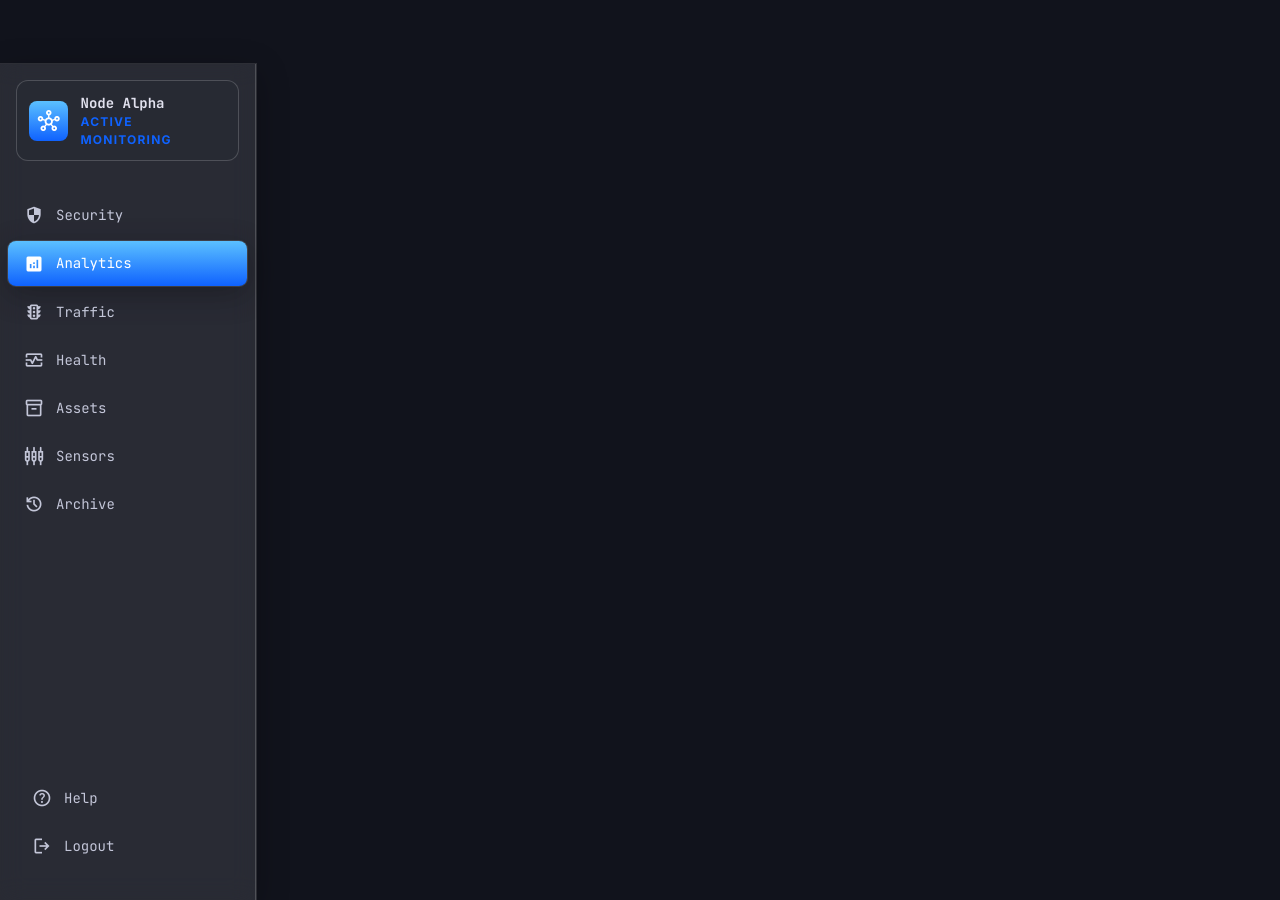
SideNav › opens Health and Assets panels
What coordinates should you click on to do the following:
click the button "Health"
I would click on:
 (128, 360)
Its box is [8,338,247,382].
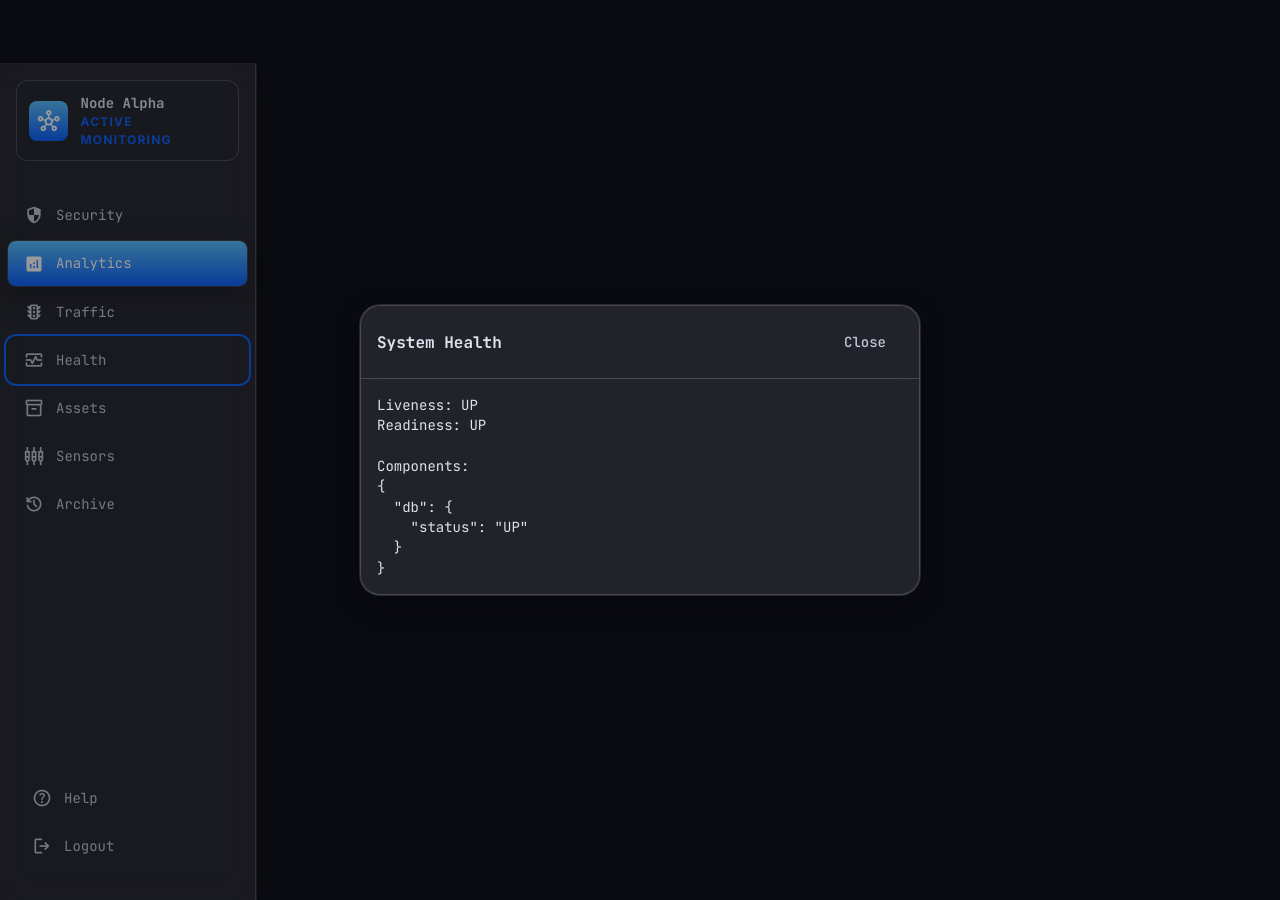
Expected: the dialog "System Health" is shown, [360,305,920,595]
What coordinates should you click on to do the following:
click the button with aria-label "Close dialog"
I would click on:
 (865, 342)
Its box is [827,322,903,362].
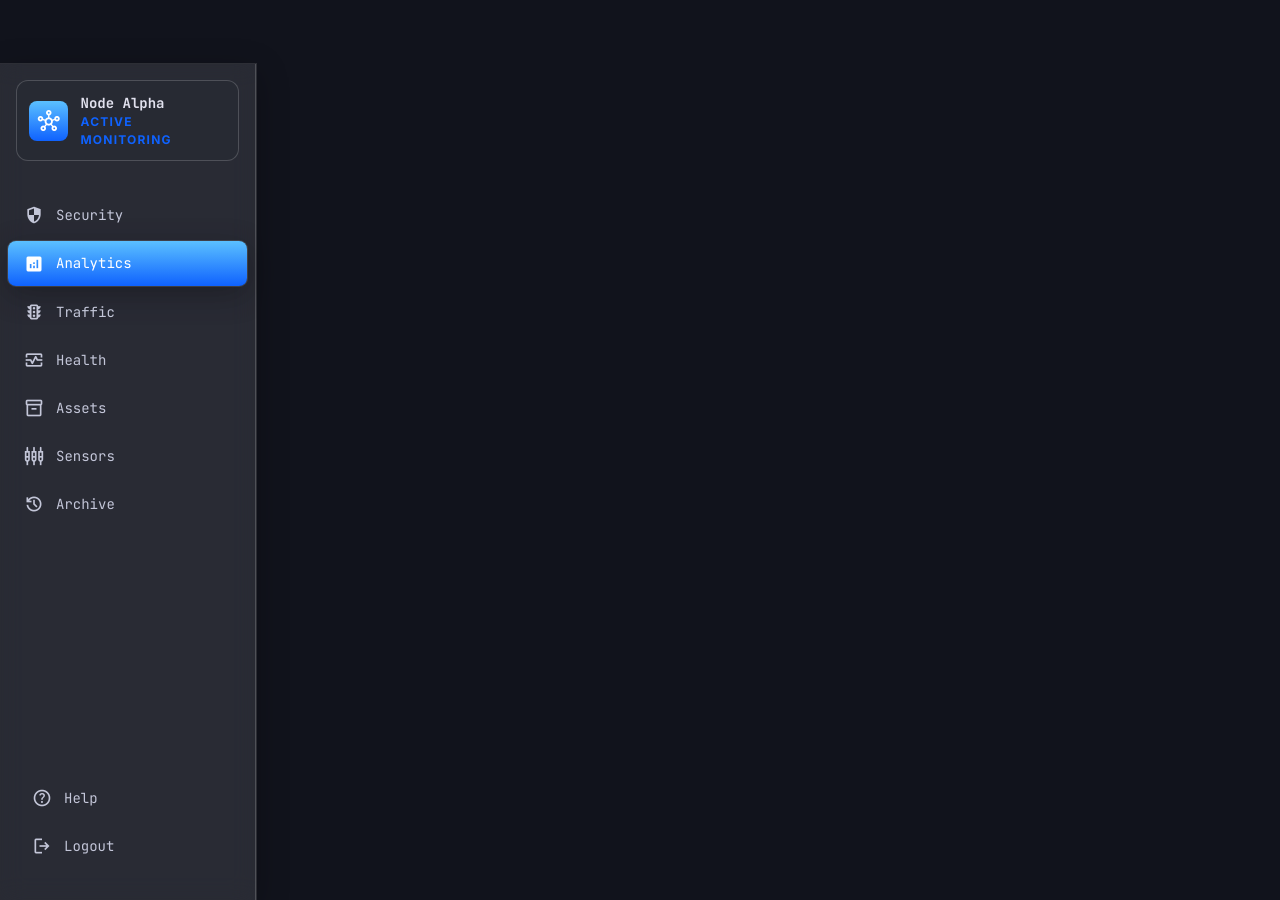
What coordinates should you click on to do the following:
click the button "Assets"
I would click on:
 (128, 408)
Its box is [8,386,247,430].
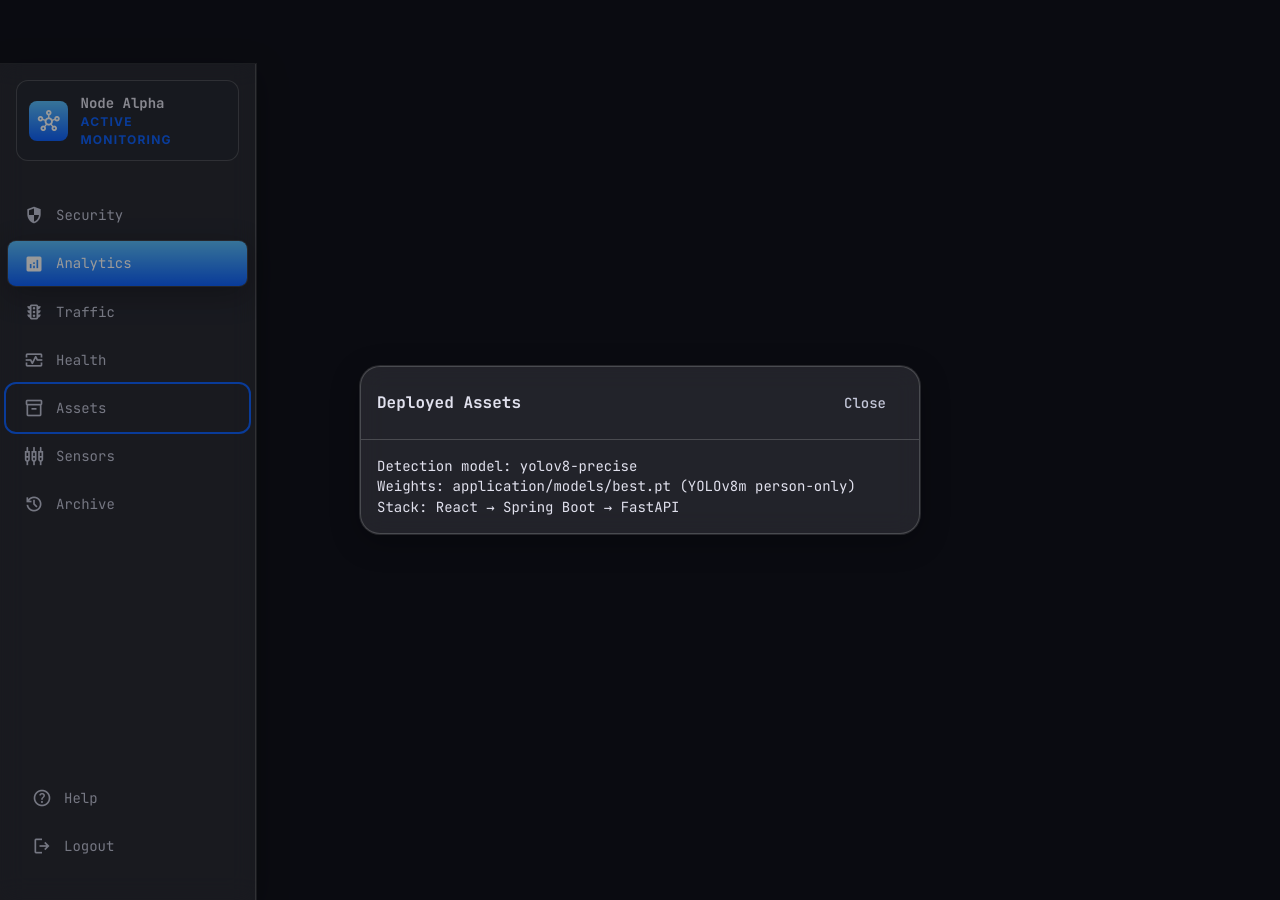
Expected: the dialog "Deployed Assets" is shown, [360,366,920,534]
